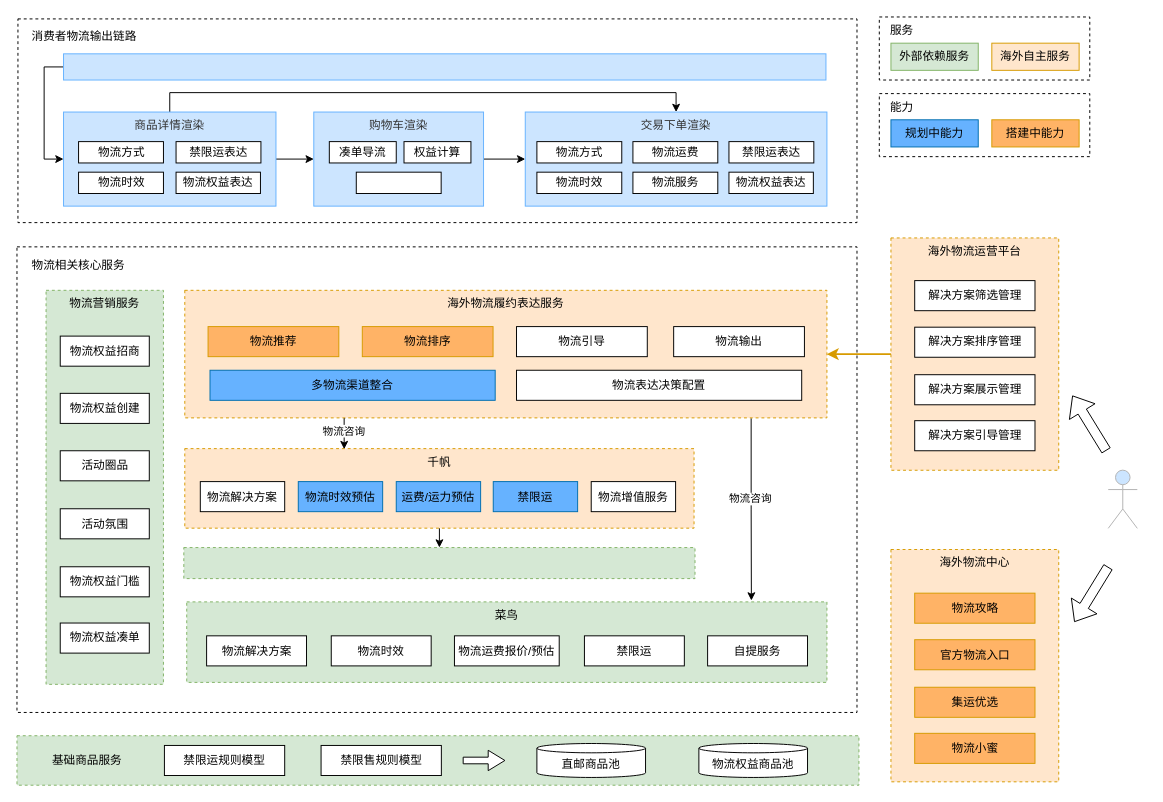
The diagram is 1163 pixels wide and 802 high, and some of its shapes have lost their labels. Here are the shapes that lost their labels. From the top down, the centre of each, then its label:
At (444,66): "搜推、会场流量（物流权益引流）".
At (398,182): "物流权益氛围".
At (1122,498): "物流运营".
At (439,563): "外部第三方集运商".
